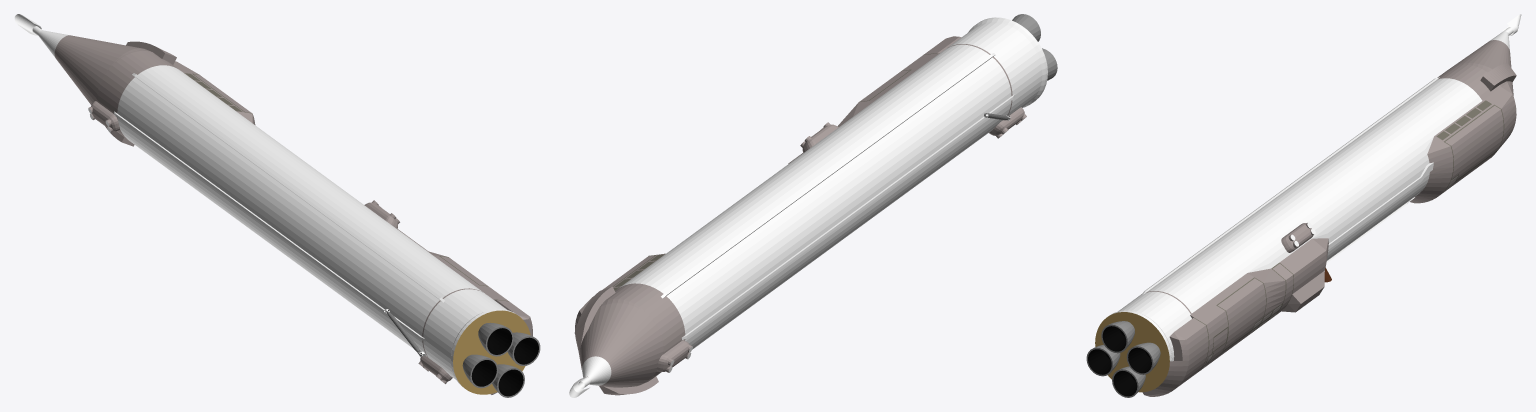
File: booster1.obj
3 renders of one model, left to right at view 1: azimuth 30°, elevation 25°; view 2: azimuth 150°, elevation 25°; view 3: azimuth 330°, elevation 25°, orthographic. The views are drawn at different scales.
Visible parts, largest first — view 1: group37, group57, group101, group132, group85, group67, group36, group35, group49, group59, group100, group4 (+6 smaller); view 2: group37, group57, group85, group101, group67, group4, group36, group35, group49, group59, group100, group131 (+7 smaller); view 3: group37, group57, group63, group99, group132, group101, group91, group56, group44, group43, group36, group67 (+19 smaller).
Part boxes in pixels (x1,y1,x2,y2): group37: (117,65,365,277); group57: (318,212,450,338); group101: (394,268,483,356); group132: (453,310,530,394); group85: (72,41,140,104); group67: (97,51,178,138); group36: (132,73,444,302); group35: (114,111,425,341); group49: (306,203,377,285); group59: (434,297,505,379); group100: (423,289,495,365); group4: (54,35,100,81); group37: (620,135,886,349); group57: (835,70,976,205); group85: (577,303,663,387); group101: (916,44,1011,145); group67: (606,283,685,377); group4: (580,333,633,386); group36: (661,53,995,298); group35: (682,94,1014,339); group49: (822,126,899,214); group59: (958,26,1036,108); group100: (946,35,1024,115); group131: (968,17,1047,107); group37: (1258,78,1482,260); group57: (1178,218,1295,290); group63: (1434,99,1503,179); group99: (1209,273,1265,350); group132: (1095,312,1169,392); group101: (1141,271,1217,313); group91: (1410,136,1453,203); group56: (1280,238,1326,293); group44: (1170,318,1208,387); group43: (1190,301,1228,371); group36: (1142,77,1439,294); group67: (1437,64,1500,100).
Bounding box in the file's own units: 4.8 × 4.23 × 37.7.
